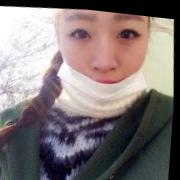WRONG: (51, 6, 158, 112)
